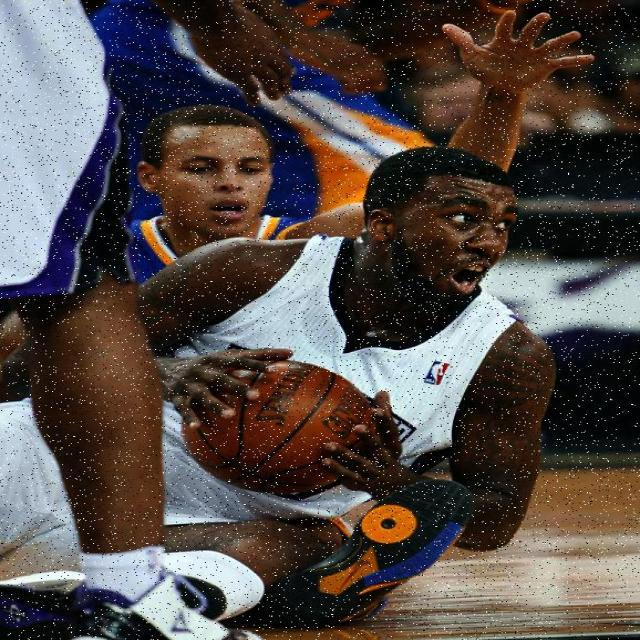fall: (1, 167, 588, 639)
